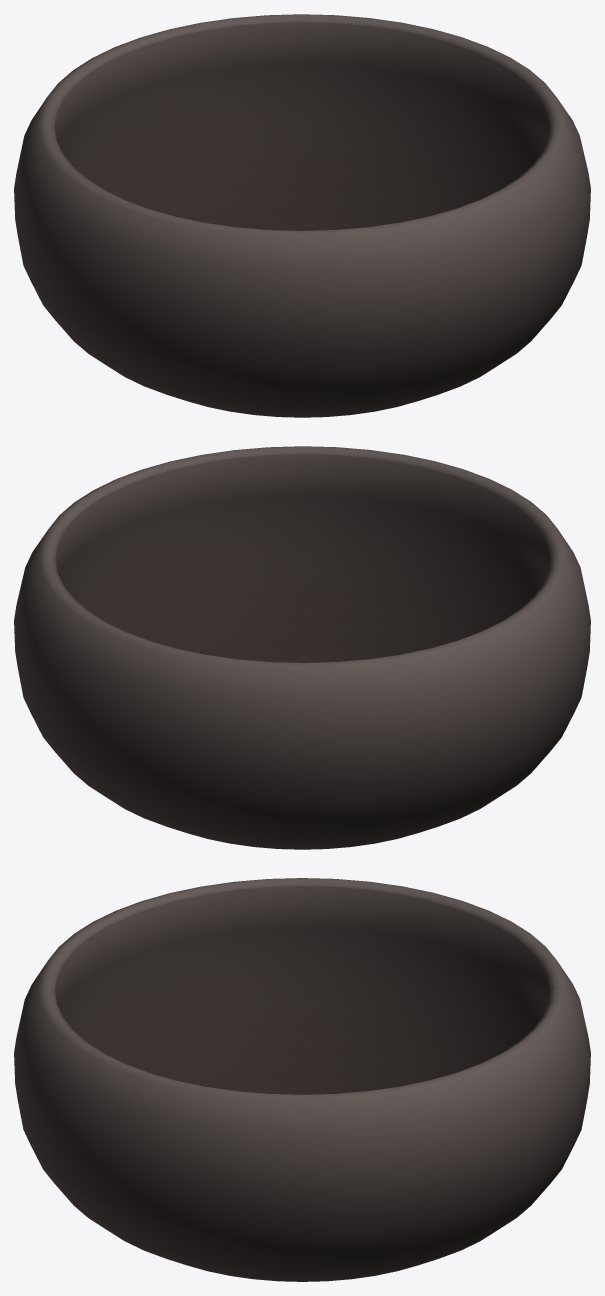
File: bowl_001.fbx
The picture shows the model from 3 angles, top to bottom: view 1: azimuth 30°, elevation 25°; view 2: azimuth 150°, elevation 25°; view 3: azimuth 270°, elevation 25°; orthographic projection.
Visible parts, largest first — view 1: bowl_001; view 2: bowl_001; view 3: bowl_001.
Part boxes in pixels (x1=…): bowl_001: x1=14, y1=14, x2=590, y2=417; bowl_001: x1=14, y1=446, x2=590, y2=849; bowl_001: x1=14, y1=878, x2=590, y2=1281.
Bounding box in the file's own units: 19.62 × 19.62 × 8.71.
